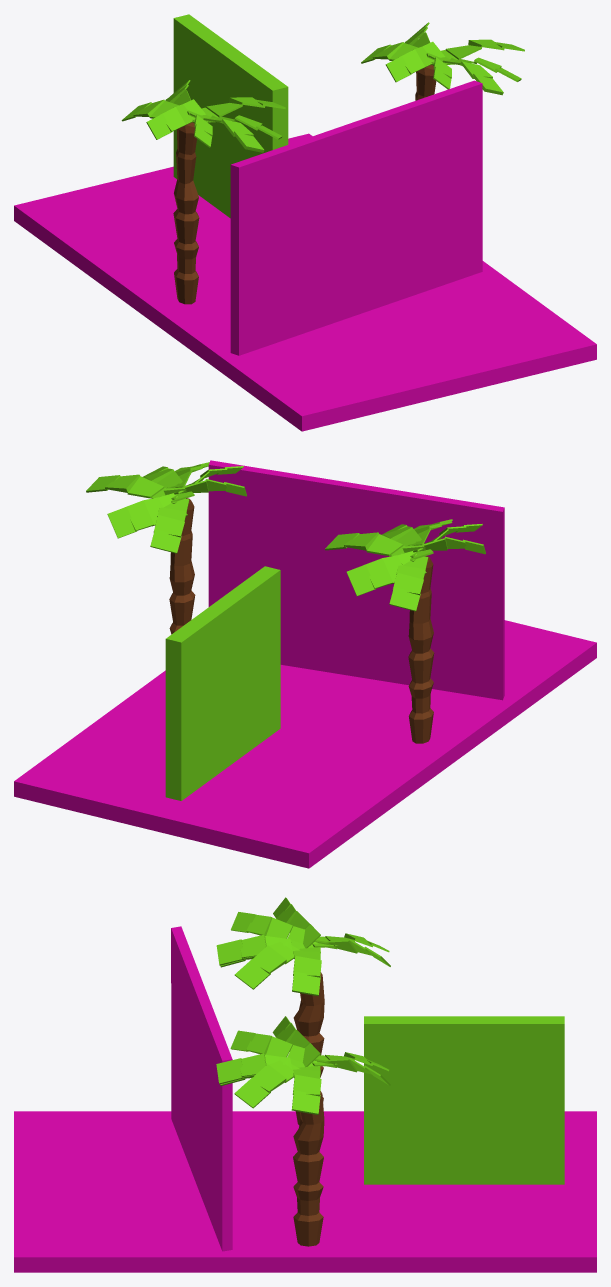
The picture shows the model from 3 angles, top to bottom: view 1: azimuth 30°, elevation 25°; view 2: azimuth 150°, elevation 25°; view 3: azimuth 270°, elevation 25°; orthographic projection.
Visible parts, largest first — view 1: Cube; view 2: Cube; view 3: Cube.
Boxes of the visible parts, x1=… form: Cube: x1=14, y1=14, x2=596, y2=431; Cube: x1=14, y1=460, x2=596, y2=868; Cube: x1=14, y1=897, x2=596, y2=1272.
Size of the model in its own units: 1161 by 639 by 1517.
